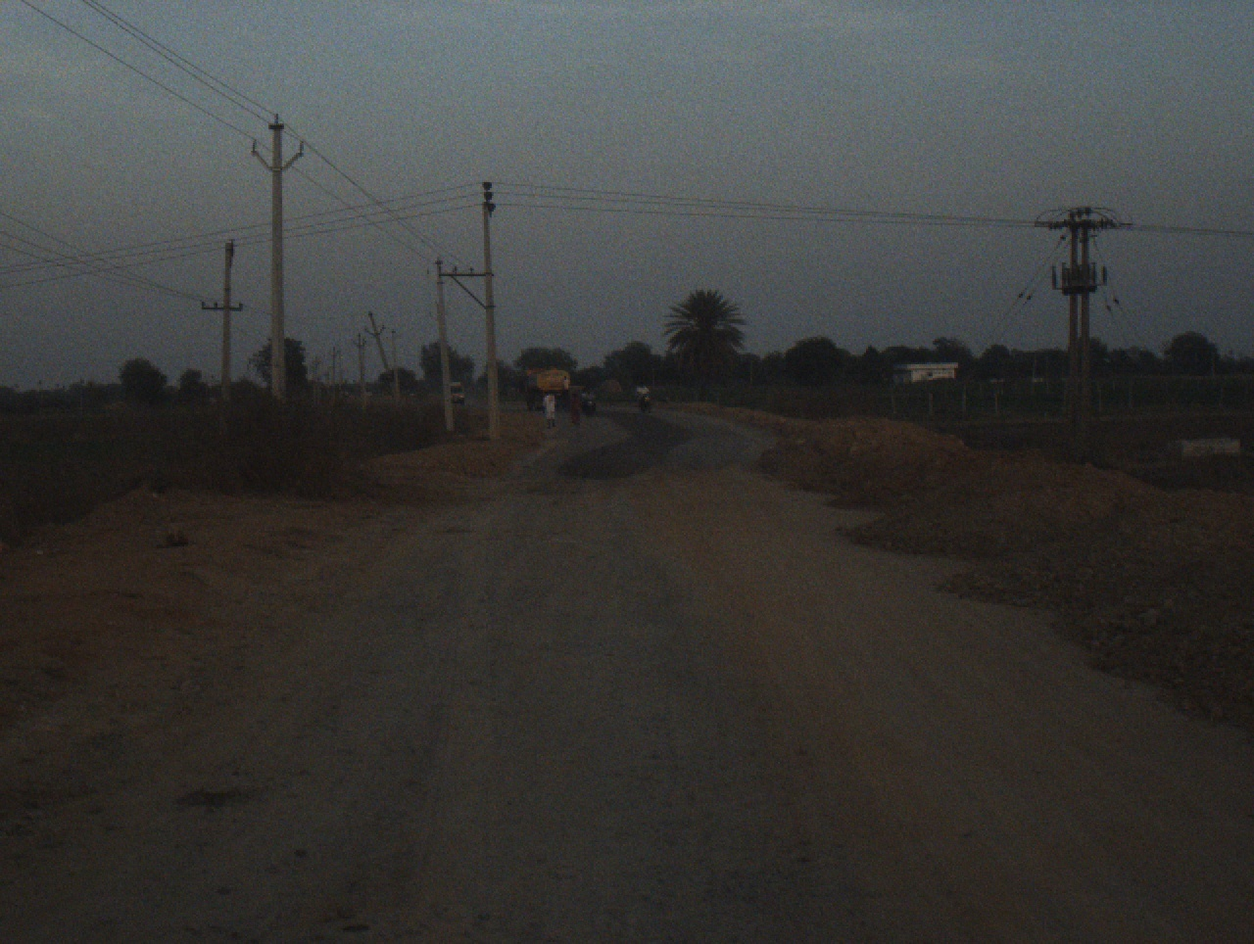motorcycle: (637, 390, 658, 413), (583, 392, 598, 416)
person: (544, 383, 559, 424), (563, 392, 581, 424)
rider: (631, 377, 650, 401), (580, 385, 598, 399)
truck: (526, 361, 576, 405), (447, 379, 467, 404)
